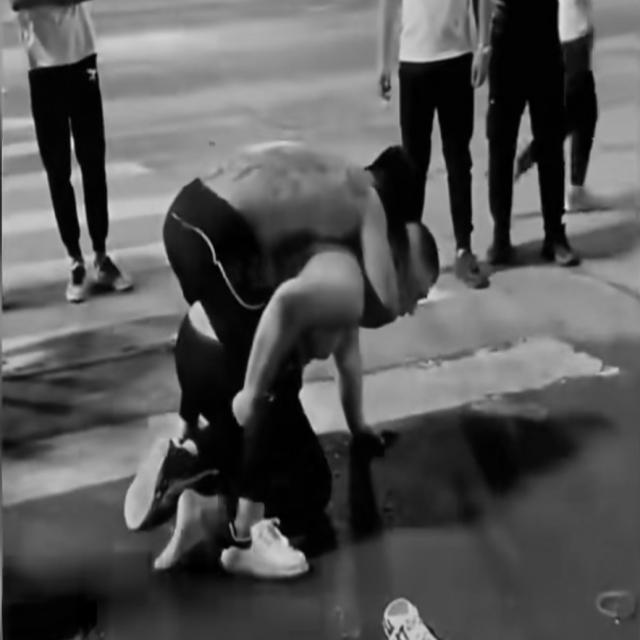fight: (165, 130, 432, 440)
nofight: (350, 0, 489, 302), (4, 15, 141, 313), (478, 4, 581, 284)
